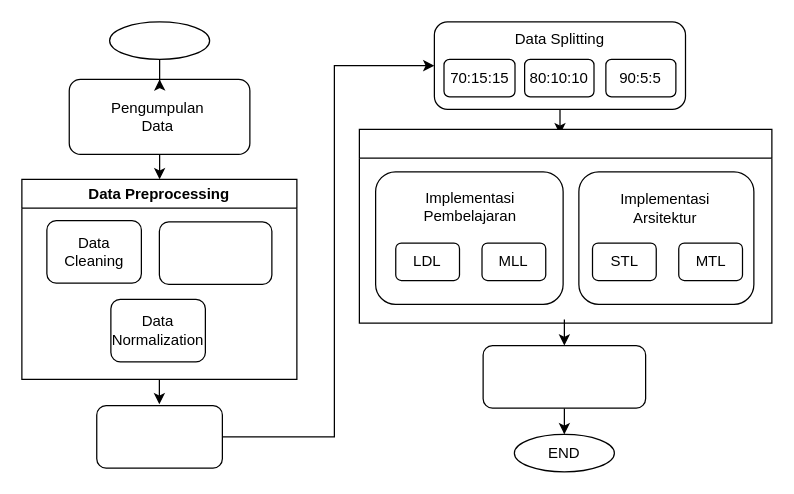
The diagram is 794 pixels wide and 494 high, and some of its shapes have lost their labels. The shapes that lost their labels are listed below. From the top down, each one's centre as x and y in pixels, then its label:
At (x=159, y=40): "START".
At (x=565, y=225): "Implementasi Model".
At (x=215, y=252): "Label Transformation".
At (x=564, y=376): "Evaluasi Kinerja Model".
At (x=159, y=436): "Imbalance Handling".
